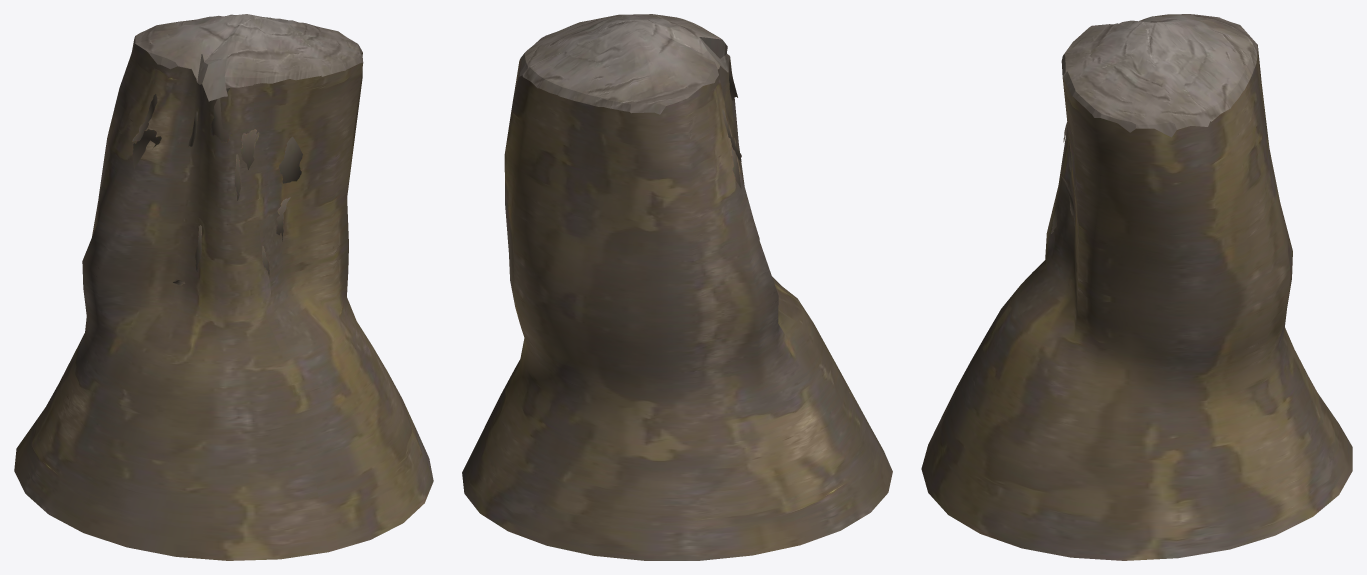
3 views of the same model, side by side, from view 1: azimuth 30°, elevation 25°; view 2: azimuth 150°, elevation 25°; view 3: azimuth 270°, elevation 25° (orthographic). The views are drawn at different scales.
Parts seen in each view (by area): view 1: SM_Yew_02_stump_LOD0; view 2: SM_Yew_02_stump_LOD0; view 3: SM_Yew_02_stump_LOD0.
Boxes of the visible parts, bbox=[...] form: SM_Yew_02_stump_LOD0: bbox=[14, 14, 433, 560]; SM_Yew_02_stump_LOD0: bbox=[462, 14, 892, 560]; SM_Yew_02_stump_LOD0: bbox=[921, 14, 1352, 560].
Bounding box in the file's own units: 1.87 × 2.21 × 1.86.
1 material, 1 textured.
